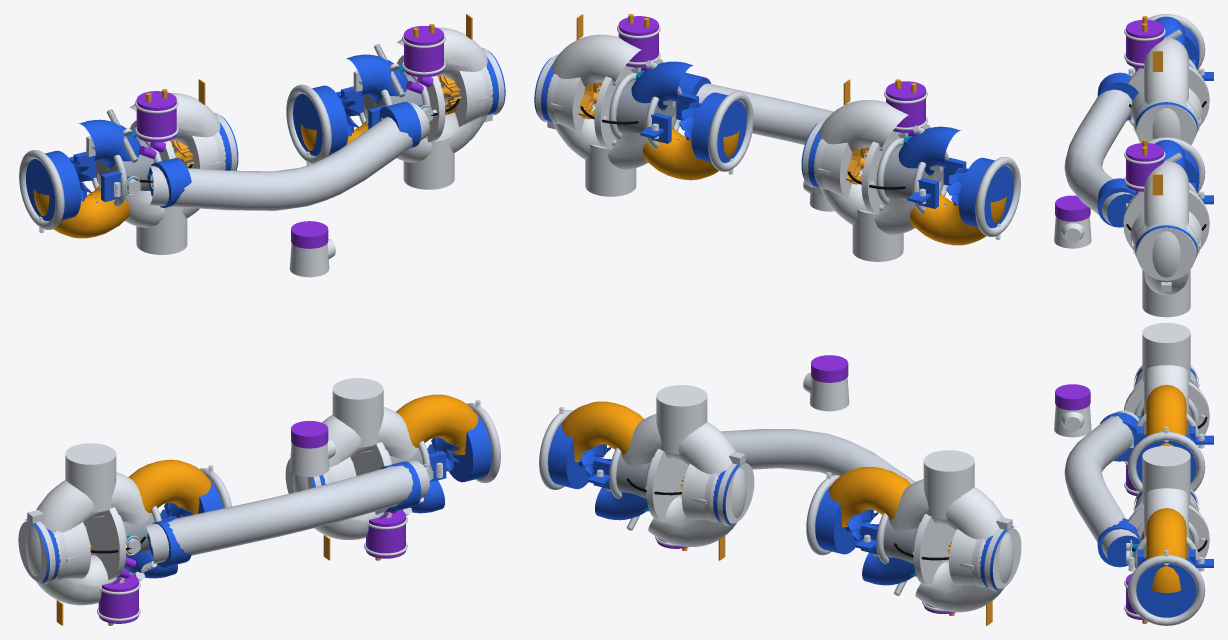
Rendered from turbo_quad.glb.
3 renders of one model, left to right at view 1: azimuth 30°, elevation 25°; view 2: azimuth 150°, elevation 25°; view 3: azimuth 270°, elevation 25°, orthographic. The views are drawn at different scales.
Visible parts, largest first — view 1: Compressor_Volute_Scroll (×4), Quad_Charge_Merge_Bridge_Left, Quad_Charge_Merge_Bridge_Right, Compressor_Boost_Outlet_Pipe (×4), Inconel_Foil_Turbine_Thermal_Blanket (×3), DualPort_Wastegate_Canister (×4), Turbine_VBand_Exhaust_Flange (×3), Anti_Surge_Ported_Air_Inlet_Snout (×4), Divided_TwinScroll_Turbine_Volute (×3), Turbine_Discharge_VBand_Clamp_Ring (×3), Compressor_Seal_Backplate (×3), Turbocharger_Master_Assembly_Group (+3 smaller); view 2: Compressor_Volute_Scroll (×4), Inconel_Foil_Turbine_Thermal_Blanket (×4), Compressor_Boost_Outlet_Pipe (×4), Turbine_VBand_Exhaust_Flange (×4), Anti_Surge_Ported_Air_Inlet_Snout (×4), Divided_TwinScroll_Turbine_Volute (×4), Compressor_Seal_Backplate (×4), Quad_Charge_Merge_Bridge_Left, Turbine_Discharge_VBand_Clamp_Ring (×4), CHRA_Bearing_Center_Housing (×4), Quad_Charge_Merge_Bridge_Right, DualPort_Wastegate_Canister (×2) (+1 smaller); view 3: Compressor_Volute_Scroll (×4), Compressor_Boost_Outlet_Pipe (×3), Quad_Charge_Merge_Bridge_Left, Quad_Charge_Merge_Bridge_Right, Inconel_Foil_Turbine_Thermal_Blanket (×2), Turbine_Discharge_VBand_Clamp_Ring (×4), Anti_Surge_Ported_Air_Inlet_Snout (×2), Compressor_Seal_Backplate (×4), Turbine_VBand_Exhaust_Flange (×4), Turbocharger_Master_Assembly_Group, DualPort_Wastegate_Canister (×2), Atmospheric_BOV_50mm_L (+7 smaller).
Boxes of the visible parts, <box> form: Compressor_Volute_Scroll (×4): <box>26,27,487,605</box>; Quad_Charge_Merge_Bridge_Left: <box>145,460,429,563</box>; Quad_Charge_Merge_Bridge_Right: <box>148,102,429,210</box>; Compressor_Boost_Outlet_Pipe (×4): <box>65,137,454,512</box>; Inconel_Foil_Turbine_Thermal_Blanket (×3): <box>33,167,478,516</box>; DualPort_Wastegate_Canister (×4): <box>98,26,443,623</box>; Turbine_VBand_Exhaust_Flange (×3): <box>26,85,491,482</box>; Anti_Surge_Ported_Air_Inlet_Snout (×4): <box>18,67,493,581</box>; Divided_TwinScroll_Turbine_Volute (×3): <box>35,54,407,578</box>; Turbine_Discharge_VBand_Clamp_Ring (×3): <box>19,84,500,482</box>; Compressor_Seal_Backplate (×3): <box>84,55,445,579</box>; Turbocharger_Master_Assembly_Group: <box>148,102,421,567</box>; Compressor_Volute_Scroll (×4): <box>552,34,1013,612</box>; Inconel_Foil_Turbine_Thermal_Blanket (×4): <box>562,109,1006,527</box>; Compressor_Boost_Outlet_Pipe (×4): <box>585,144,974,519</box>; Turbine_VBand_Exhaust_Flange (×4): <box>548,92,1013,554</box>; Anti_Surge_Ported_Air_Inlet_Snout (×4): <box>546,74,1021,588</box>; Divided_TwinScroll_Turbine_Volute (×4): <box>595,61,1004,585</box>; Compressor_Seal_Backplate (×4): <box>594,65,955,586</box>; Quad_Charge_Merge_Bridge_Left: <box>720,429,915,483</box>; Turbine_Discharge_VBand_Clamp_Ring (×4): <box>539,91,1020,555</box>; CHRA_Bearing_Center_Housing (×4): <box>616,80,943,563</box>; Quad_Charge_Merge_Bridge_Right: <box>696,83,833,144</box>; DualPort_Wastegate_Canister (×2): <box>618,16,925,132</box>; Compressor_Volute_Scroll (×4): <box>1144,37,1188,537</box>; Compressor_Boost_Outlet_Pipe (×3): <box>1142,270,1190,504</box>; Quad_Charge_Merge_Bridge_Left: <box>1064,410,1140,558</box>; Quad_Charge_Merge_Bridge_Right: <box>1064,72,1133,224</box>; Inconel_Foil_Turbine_Thermal_Blanket (×2): <box>1146,384,1186,592</box>; Turbine_Discharge_VBand_Clamp_Ring (×4): <box>1127,14,1205,625</box>; Anti_Surge_Ported_Air_Inlet_Snout (×2): <box>1130,88,1202,280</box>; Compressor_Seal_Backplate (×4): <box>1123,66,1209,558</box>; Turbine_VBand_Exhaust_Flange (×4): <box>1135,26,1199,617</box>; Turbocharger_Master_Assembly_Group: <box>1097,72,1140,567</box>; DualPort_Wastegate_Canister (×2): <box>1126,20,1163,191</box>; Atmospheric_BOV_50mm_L: <box>1054,384,1091,437</box>.
Bounding box in the file's own units: 0.4837 × 0.5223 × 0.1536.
